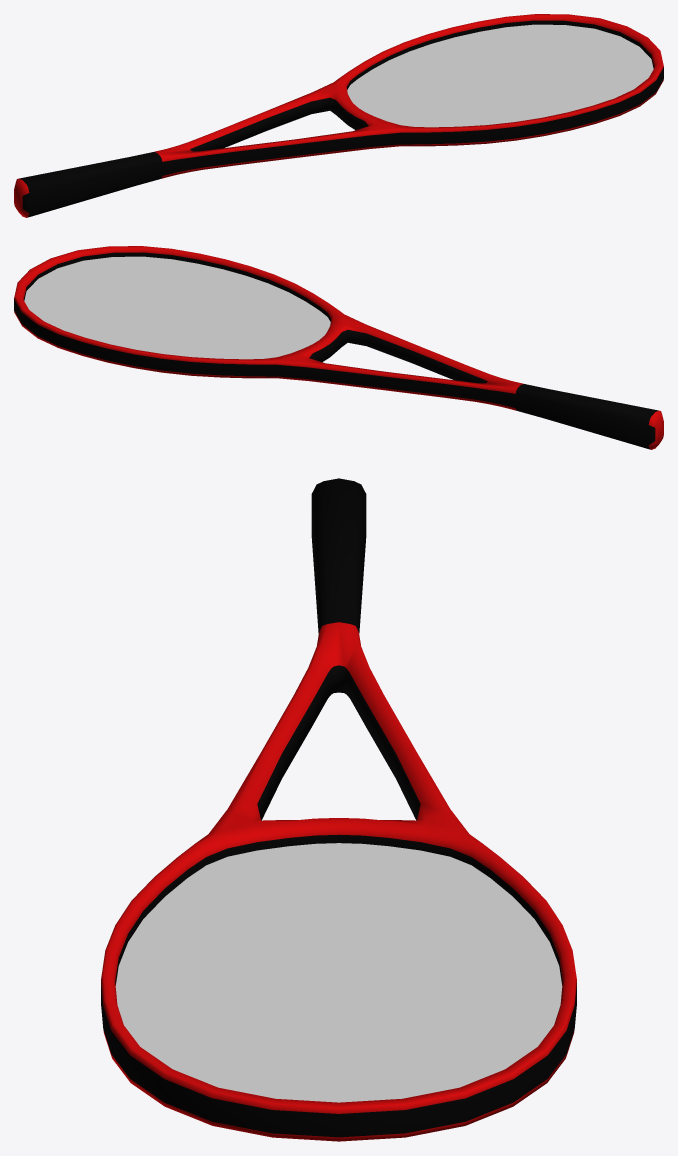
The model's file is tennis racquet.fbx.
3 views of the same model, one above another, from view 1: azimuth 30°, elevation 25°; view 2: azimuth 150°, elevation 25°; view 3: azimuth 270°, elevation 25° (orthographic). The views are drawn at different scales.
Parts seen in each view (by area): view 1: tennis racquet; view 2: tennis racquet; view 3: tennis racquet.
Boxes of the visible parts, <box> form: tennis racquet: <box>14,14,663,217</box>; tennis racquet: <box>14,246,663,449</box>; tennis racquet: <box>101,478,576,1141</box>.
Size of the model in its own units: 0.7097 by 0.0393 by 0.2322.
